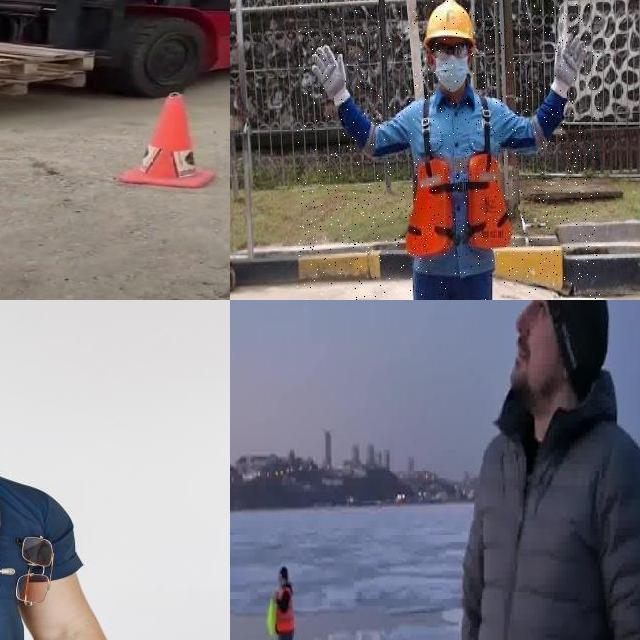GLASS: (431, 40, 472, 60)
GLOVE: (312, 45, 351, 105), (552, 33, 586, 96)
HELMET: (422, 0, 481, 57)
VEST: (400, 138, 519, 270), (274, 586, 294, 636), (266, 596, 276, 636)
